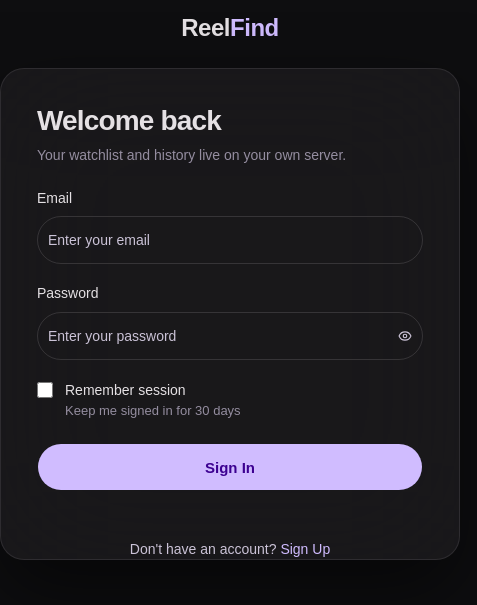
Test: AuthForm (sign-in) › rejects an address the schema does not accept
The width and height of the screenshot is (477, 605).
Type "viewer@localhost" into the field labelled "Email" at (230, 240), box [38,224,422,256]
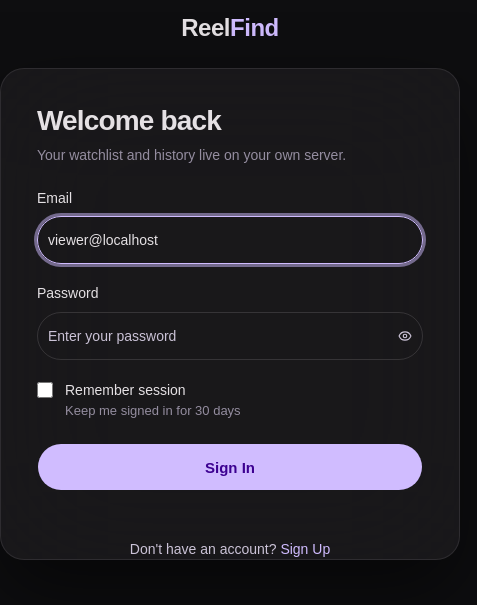
Type "hunter2" into the password field labelled "Password" at (214, 336), box [38,320,391,352]
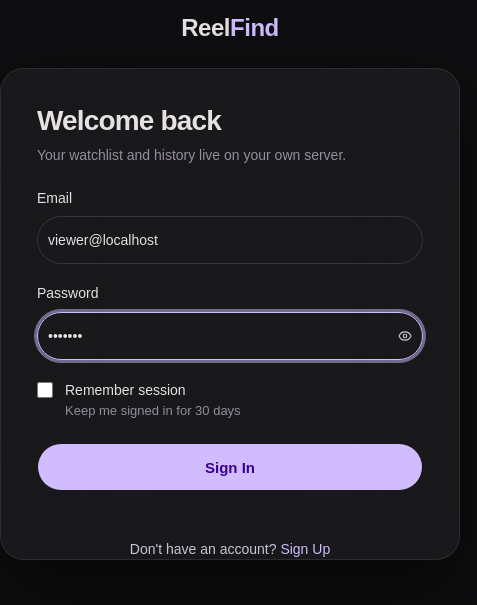
Click the button "Sign In" at (230, 467), box [37,443,423,491]
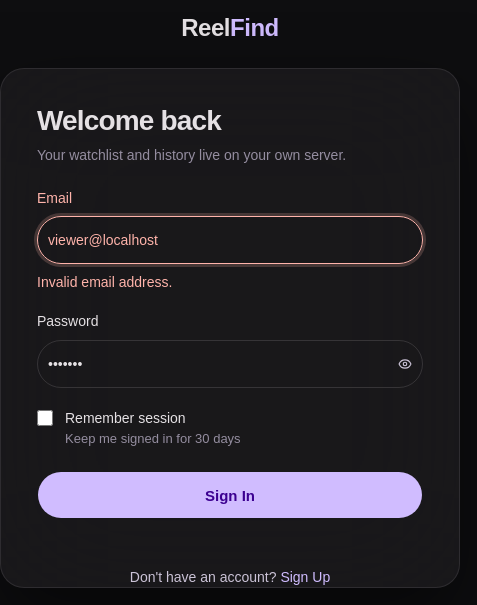
Now the text "Invalid email address." is shown, box [37,274,172,290]
